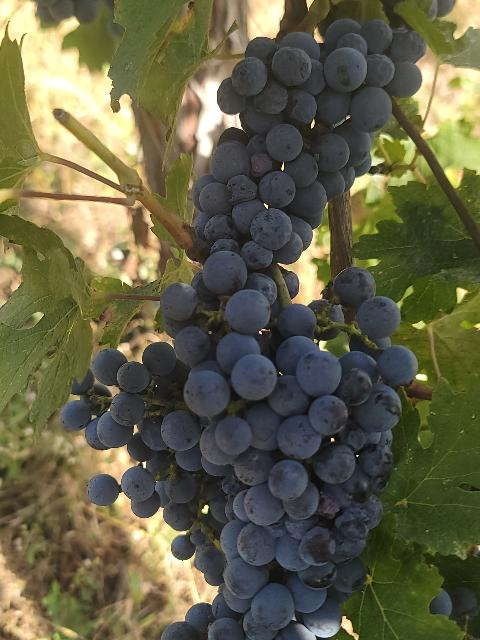grapes: (149, 268, 419, 640), (164, 19, 426, 368)
